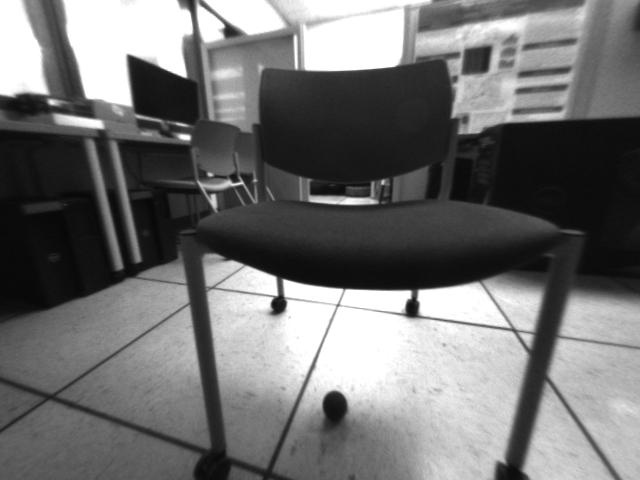dogtoy: (317, 383, 354, 428)
